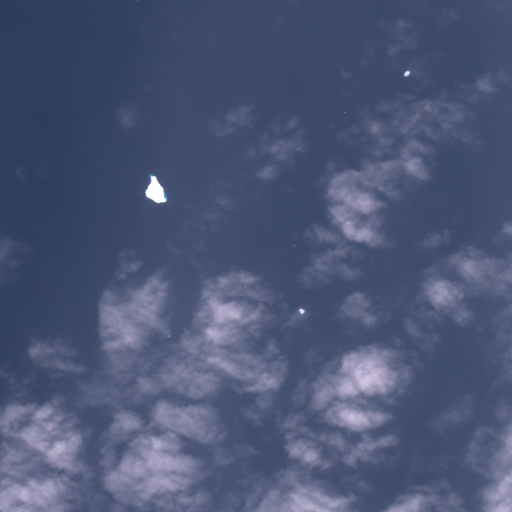Iceberg: (144, 176, 166, 203), (403, 70, 410, 76), (299, 308, 305, 314), (293, 244, 295, 246), (168, 335, 170, 337), (344, 111, 345, 113), (298, 148, 299, 149)
